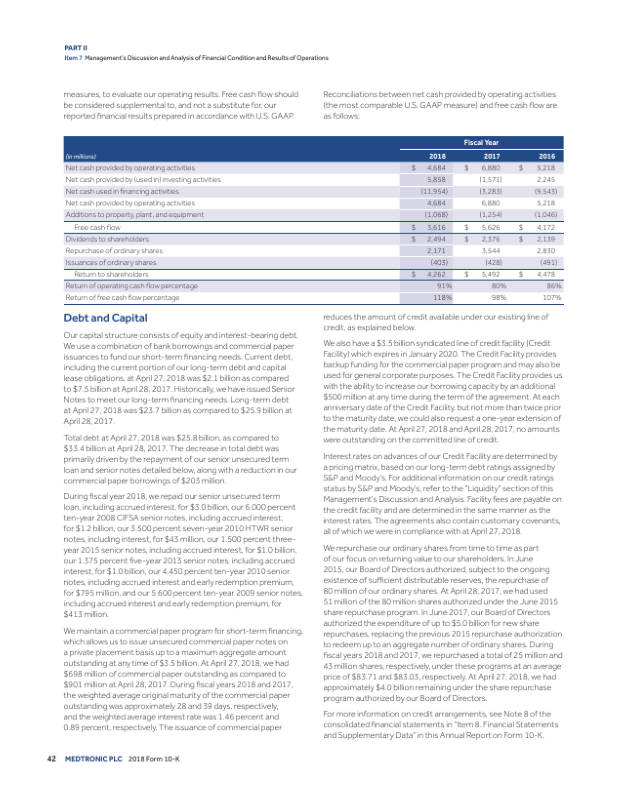table: (64, 137, 563, 306)
